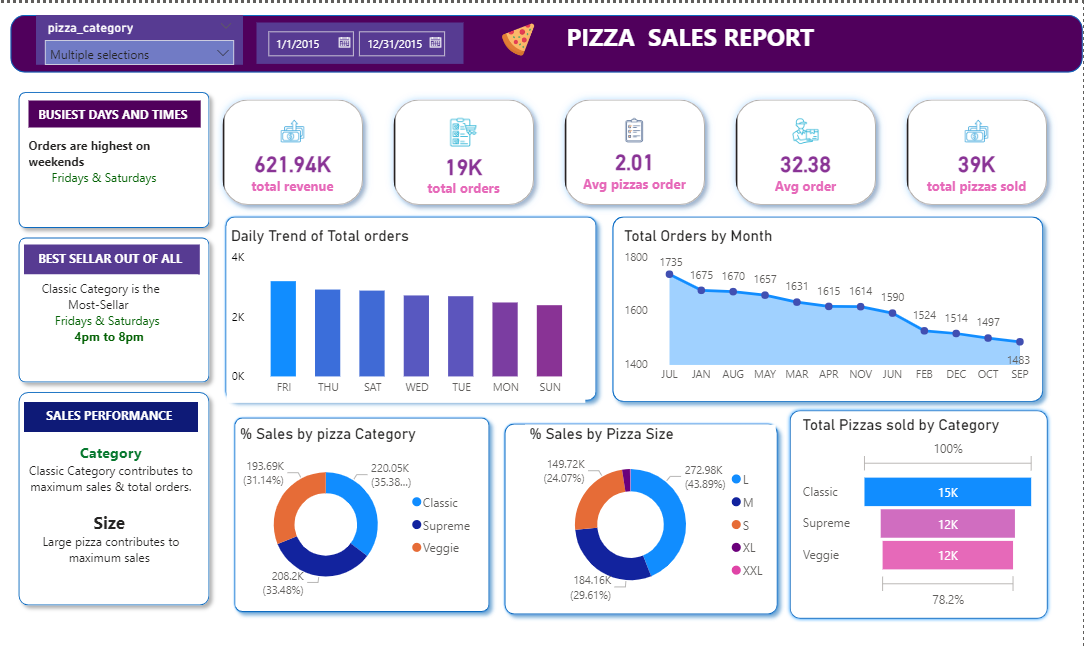

The dashboard page shown, as its layout file describes it:
{"tool":"powerbi","page":{"name":"Main dahsboard","canvas":[1500,820],"ordinal":1},"visuals":[{"type":"cardVisual","fields":{"Data":["pizza_sales.total revenue","pizza_sales.total orders","pizza_sales.Avg pizzas order","pizza_sales.Avg order","pizza_sales.total pizzas sold"]},"box":[526.2,90,950,151.2],"z":0},{"type":"shape","box":[308.8,12.5,1191.2,63.8],"z":1000},{"type":"textbox","box":[916.2,12.5,301.2,45],"z":2000},{"type":"image","box":[848.8,12.5,47.5,55],"z":3000},{"type":"shape","box":[538.8,228.8,430,222.5],"z":4000},{"type":"columnChart","title":"Daily Trend of Total orders","fields":{"Category":["pizza_sales.orderday"],"Y":["pizza_sales.total orders"]},"box":[547.5,247.5,398.8,196.2],"z":5000},{"type":"shape","box":[968.8,227.5,496.2,223.8],"z":6000},{"type":"areaChart","title":"Total Orders by Month","fields":{"Category":["pizza_sales.name"],"Y":["pizza_sales.total orders"]},"box":[985,247.5,463.8,182.5],"z":7000},{"type":"shape","box":[548,451,301,234],"z":8000},{"type":"shape","box":[848.8,458.8,321.2,230],"z":9000},{"type":"shape","box":[1170,447.5,295,240],"z":10000},{"type":"donutChart","title":"% Sales by pizza Category","fields":{"Category":["pizza_sales.pizza_category"],"Y":["pizza_sales.total revenue"]},"box":[559,468,275,202],"z":11000},{"type":"donutChart","title":"% Sales by Pizza Size","fields":{"Category":["pizza_sales.pizza_size"],"Y":["pizza_sales.total revenue"]},"box":[880,467.5,278.8,202.5],"z":12000},{"type":"funnel","title":"Total Pizzas sold by Category ","fields":{"Category":["pizza_sales.pizza_category"],"Y":["pizza_sales.total pizzas sold"]},"box":[1183.8,458.8,268.8,220],"z":13000},{"type":"shape","box":[309,90,230,169],"z":14000},{"type":"shape","box":[309,252,230,179],"z":15000},{"type":"shape","box":[309,424,230,255],"z":16000},{"type":"textbox","box":[328,108,191,30],"z":17000},{"type":"textbox","box":[324,143,195,86],"z":18000},{"type":"textbox","box":[324,269,195,33],"z":19000},{"type":"textbox","box":[324,302,193,109],"z":20000},{"type":"textbox","box":[324,443,193,33],"z":21000},{"type":"textbox","box":[324,483,193,176],"z":22000},{"type":"slicer","fields":{"Values":["pizza_sales.pizza_category"]},"box":[336,13,230,55],"z":23000},{"type":"slicer","fields":{"Values":["pizza_sales.order_date"]},"box":[582,22,230,46],"z":24000}]}

Visuals, with their boxes on the page's 1500x820 design canvas (x1, y1, x2, y2). These are canvas units, not pixel positions in the 1084x646 screenshot, which may show the page scaled, cropped or inside an application window:
cardVisual - pizza_sales.total revenue x pizza_sales.total orders: 526:90:1476:241
shape: 309:12:1500:76
textbox: 916:12:1217:58
image: 849:12:896:68
shape: 539:229:969:451
"Daily Trend of Total orders" columnChart: 548:248:946:444
shape: 969:228:1465:451
"Total Orders by Month" areaChart: 985:248:1449:430
shape: 548:451:849:685
shape: 849:459:1170:689
shape: 1170:448:1465:688
"% Sales by pizza Category" donutChart: 559:468:834:670
"% Sales by Pizza Size" donutChart: 880:468:1159:670
"Total Pizzas sold by Category " funnel: 1184:459:1453:679
shape: 309:90:539:259
shape: 309:252:539:431
shape: 309:424:539:679
textbox: 328:108:519:138
textbox: 324:143:519:229
textbox: 324:269:519:302
textbox: 324:302:517:411
textbox: 324:443:517:476
textbox: 324:483:517:659
slicer - pizza_sales.pizza_category: 336:13:566:68
slicer - pizza_sales.order_date: 582:22:812:68
